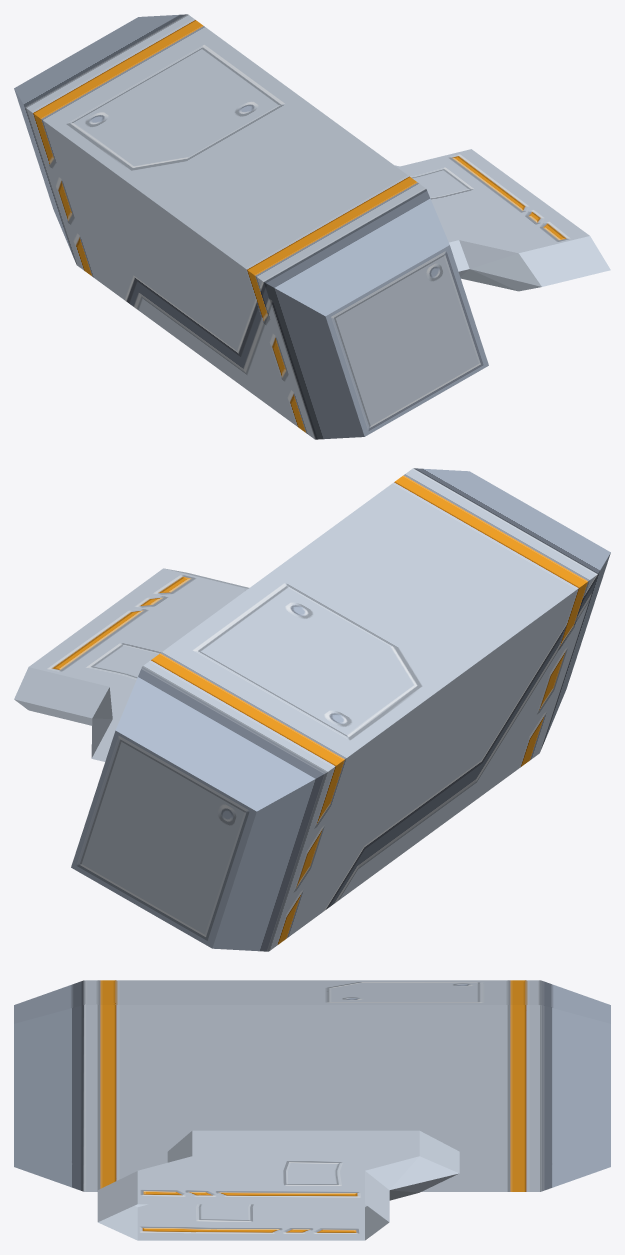
Rendered from Envi25.dae.
3 views of the same model, one above another, from view 1: azimuth 30°, elevation 25°; view 2: azimuth 150°, elevation 25°; view 3: azimuth 270°, elevation 25° (orthographic). The views are drawn at different scales.
Parts seen in each view (by area): view 1: Cube.064; view 2: Cube.064; view 3: Cube.064.
Part boxes in pixels (<box>): Cube.064: <box>14,14,610,439</box>; Cube.064: <box>14,468,610,951</box>; Cube.064: <box>14,980,610,1240</box>.
Size of the model in its own units: 5.51 by 8.39 by 3.32.
